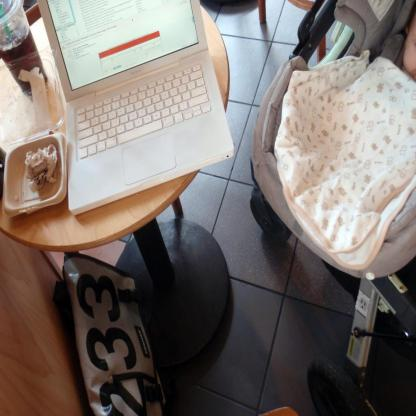board: (36, 0, 234, 218)
